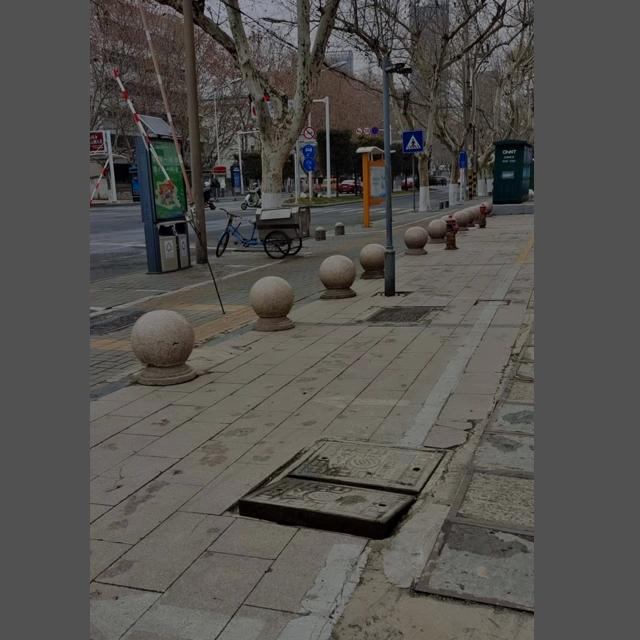uncovered: (226, 399, 423, 550)
